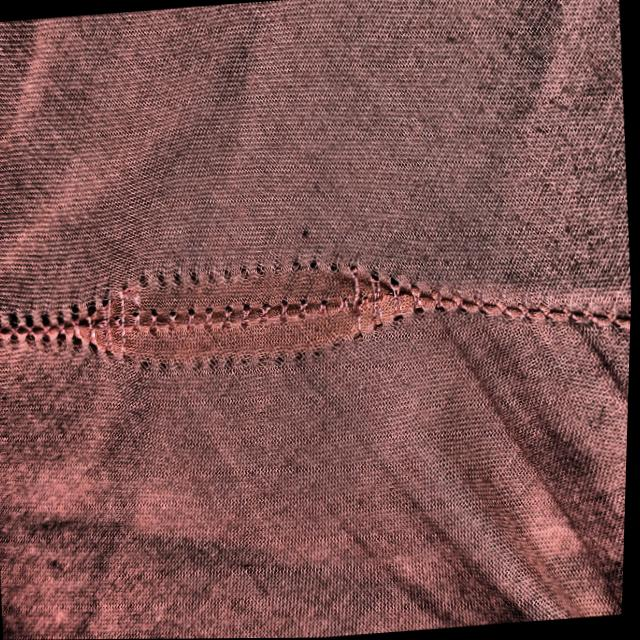seam: (43, 230, 424, 419)
